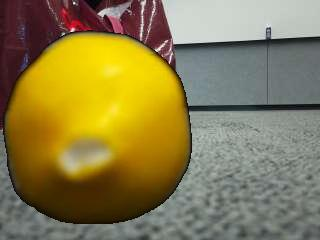lemon: (6, 32, 192, 223)
